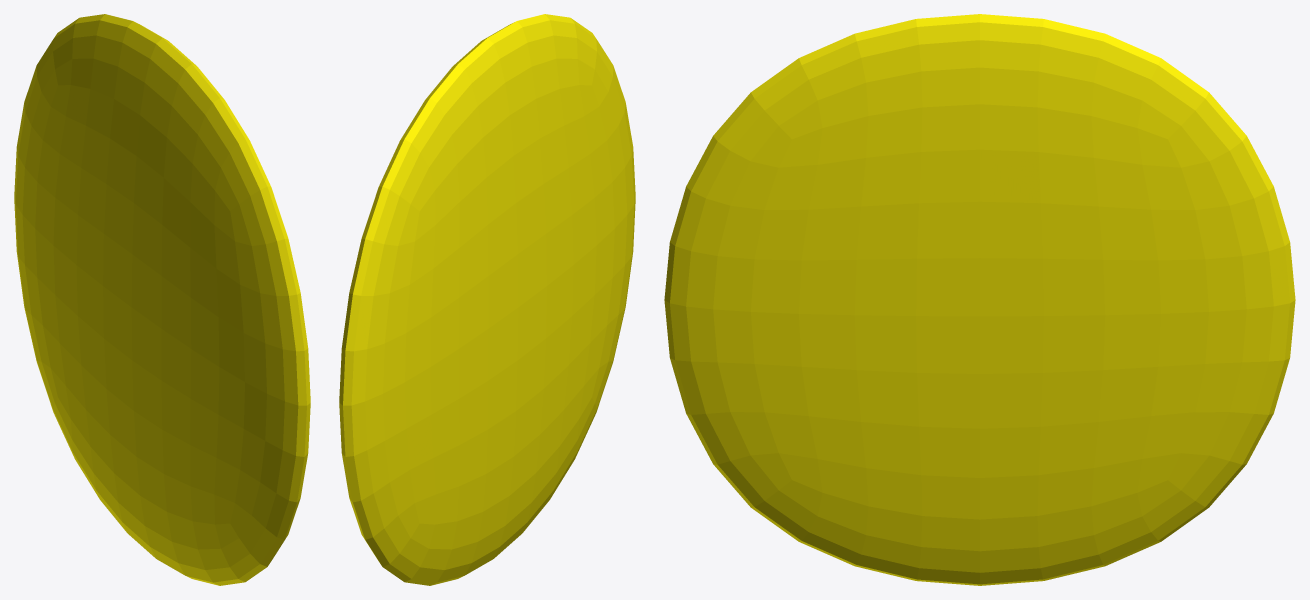
File: coin.fbx
3 renders of one model, left to right at view 1: azimuth 30°, elevation 25°; view 2: azimuth 150°, elevation 25°; view 3: azimuth 270°, elevation 25°, orthographic. The views are drawn at different scales.
Visible parts, largest first — view 1: Cube; view 2: Cube; view 3: Cube.
Part boxes in pixels (bbox=[...]): Cube: bbox=[14, 14, 310, 585]; Cube: bbox=[339, 14, 635, 585]; Cube: bbox=[664, 14, 1295, 585].
Size of the model in its own units: 2.06 by 16.79 by 16.79.
Materials: 1 (1 with a texture image).
